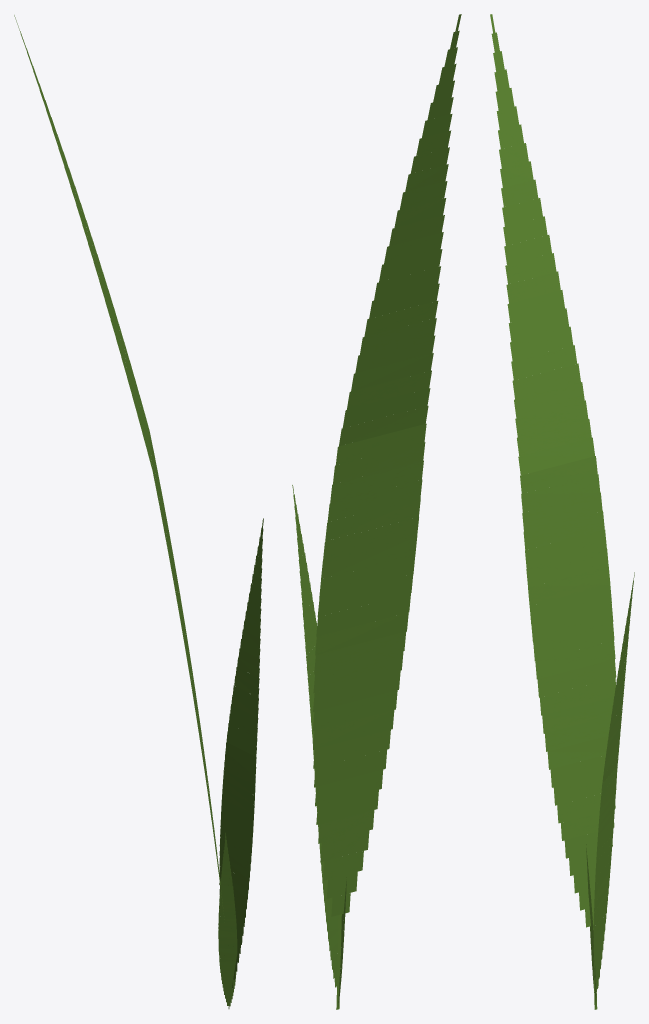
The model's file is maize_005_day_035.dae.
The picture shows the model from 3 angles, left to right: view 1: azimuth 30°, elevation 25°; view 2: azimuth 150°, elevation 25°; view 3: azimuth 330°, elevation 25°; orthographic projection. The views are drawn at different scales.
Visible parts, largest first — view 1: node; view 2: node; view 3: node.
Part boxes in pixels (<box>): node: <box>14,15,263,1008</box>; node: <box>292,14,461,1009</box>; node: <box>490,14,634,1009</box>.
Bounding box in the file's own units: 0.0418 × 0.1962 × 0.023.
1 material, 1 textured.
